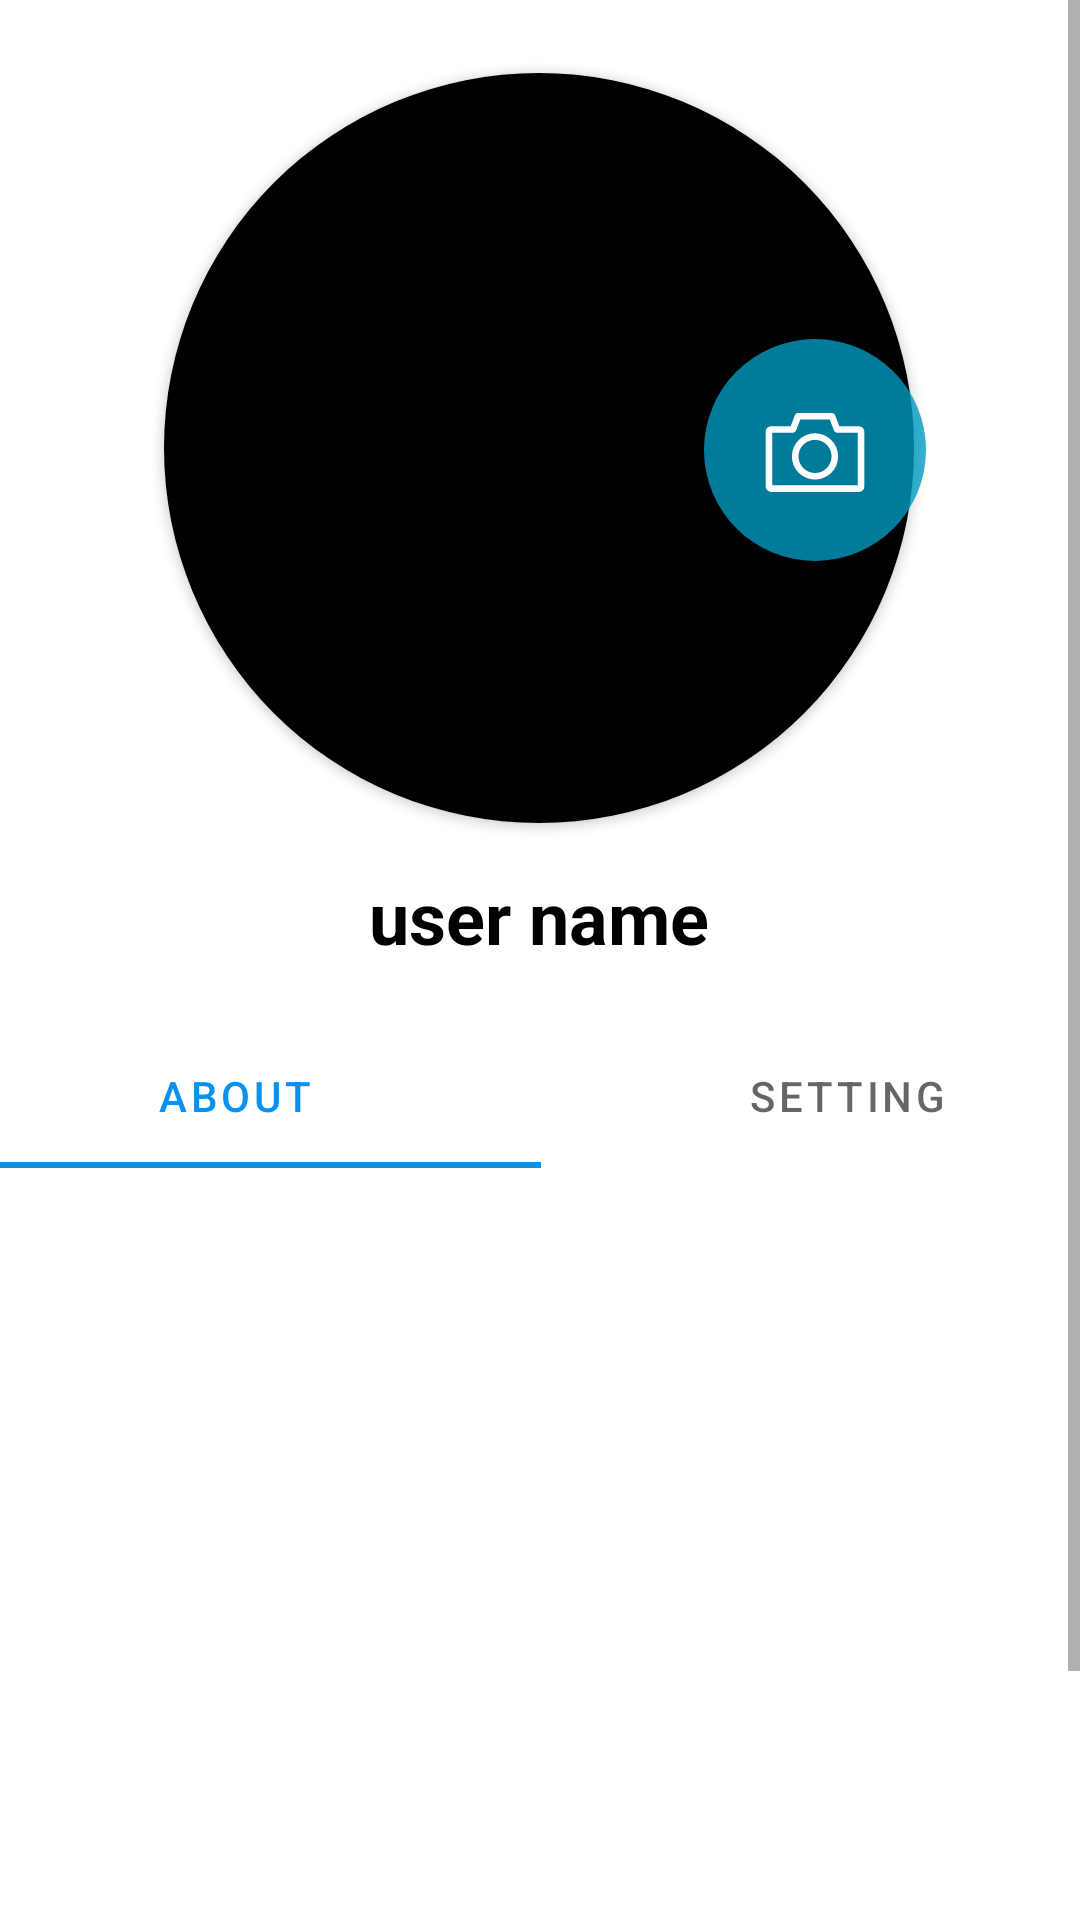

Icon click points for this 1080*1920 phone screenshot, format (x,y):
camera: (815,450)
